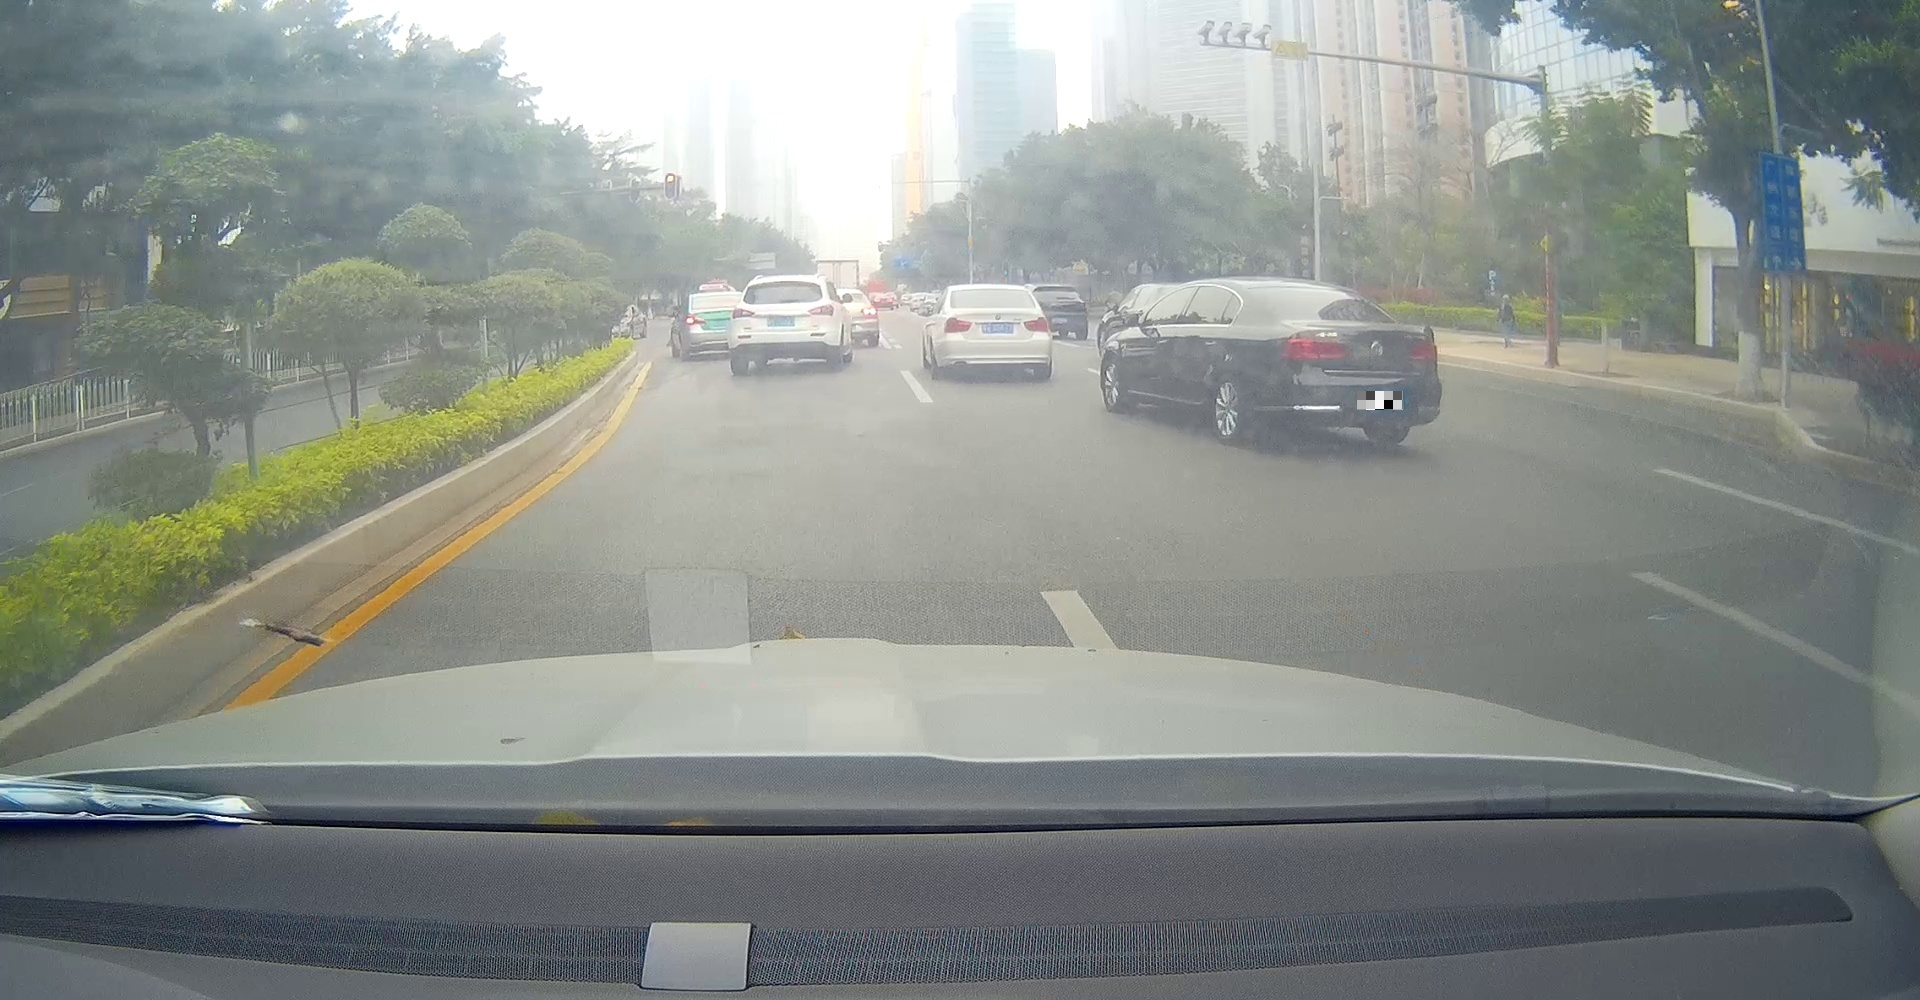L_light: (1284, 338, 1346, 359), (943, 319, 971, 332), (731, 308, 756, 319)
R_light: (1406, 341, 1437, 360), (1023, 317, 1048, 332), (809, 305, 836, 316)
T_light: (1289, 287, 1316, 294), (776, 280, 791, 286), (984, 289, 1003, 293)
day-no: (1247, 277, 1443, 444), (728, 274, 842, 376), (943, 284, 1051, 379)
plate_1: (1357, 391, 1403, 410)
